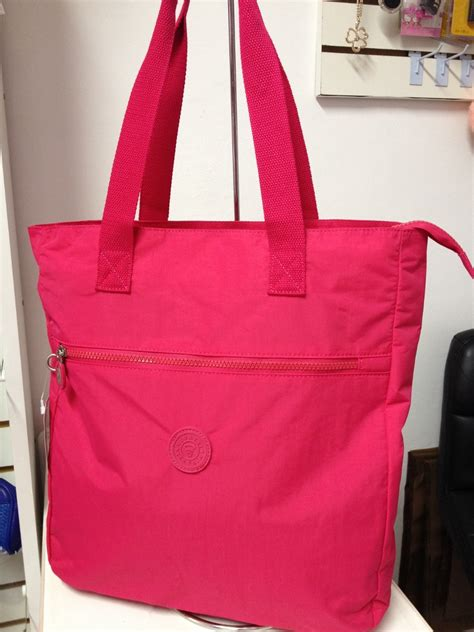nylon: (28, 1, 474, 632)
